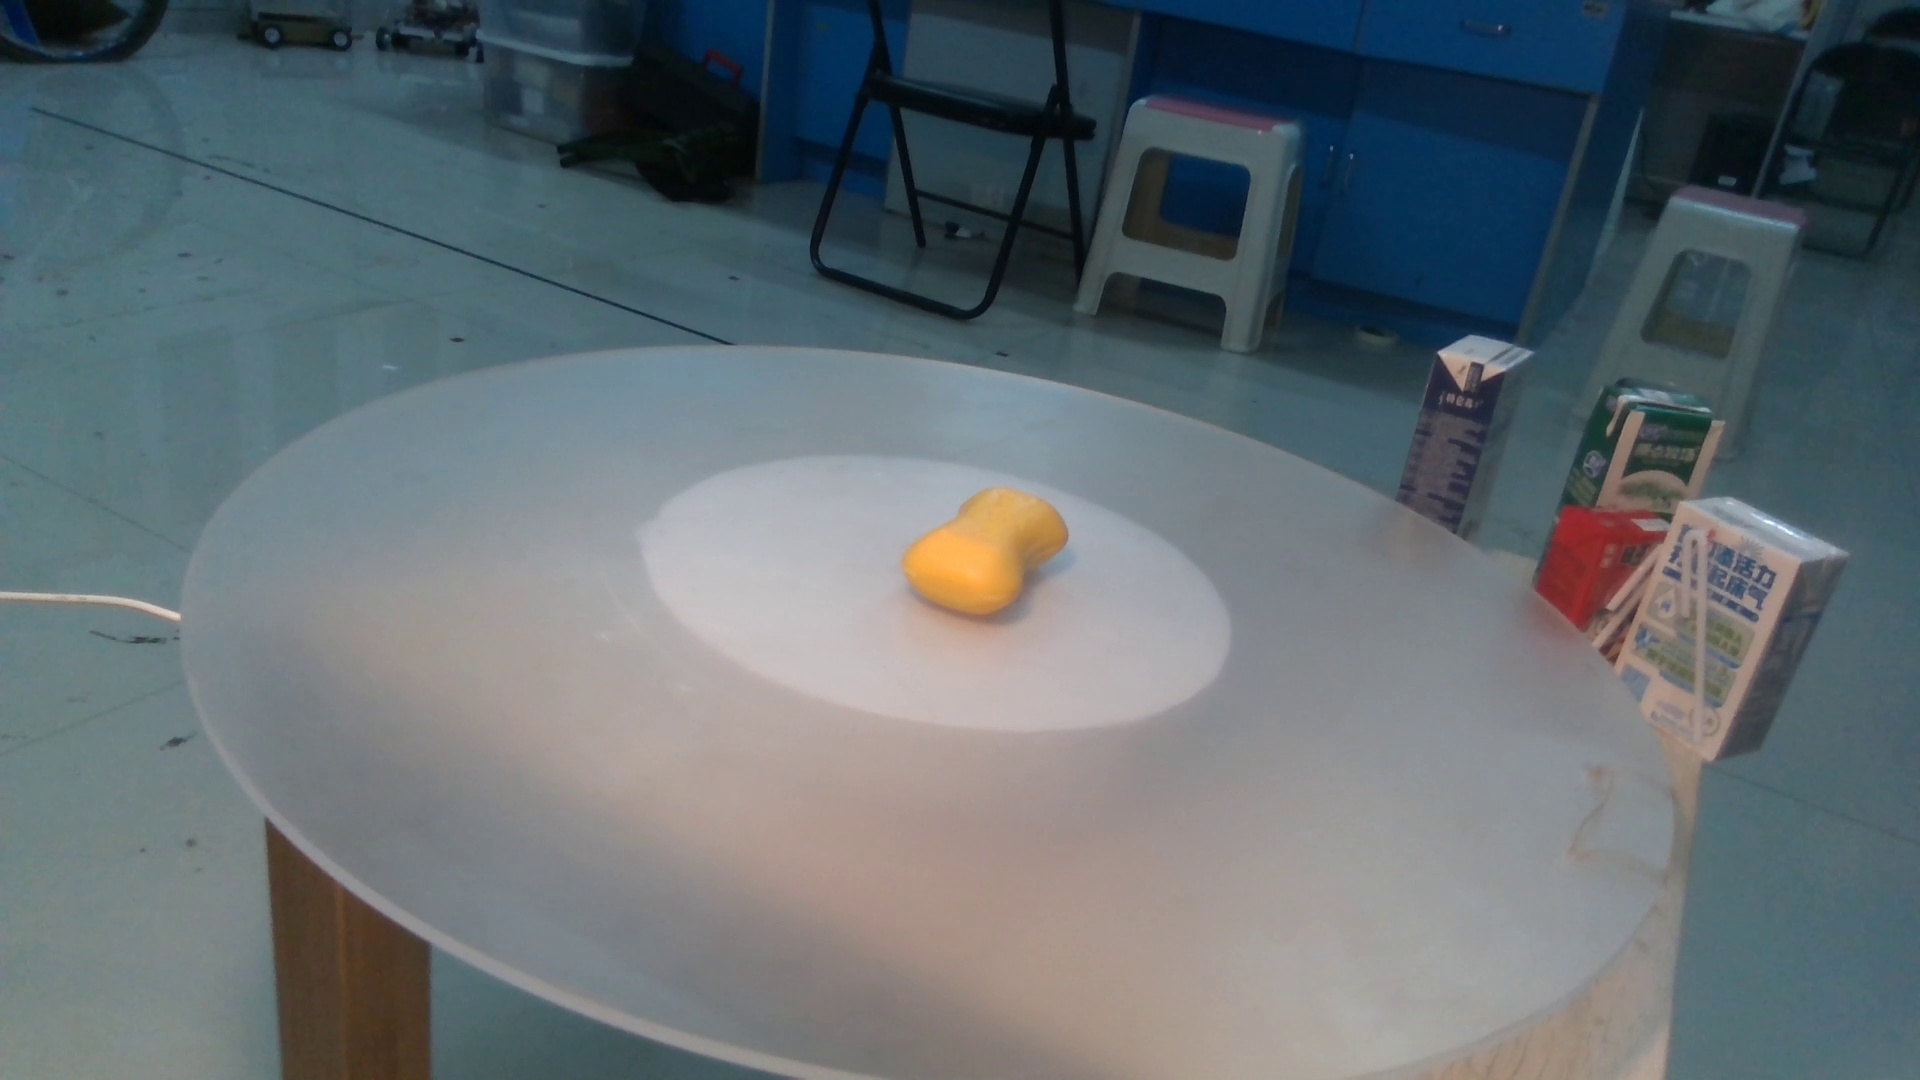CA003_1: (878, 471, 1096, 650)
